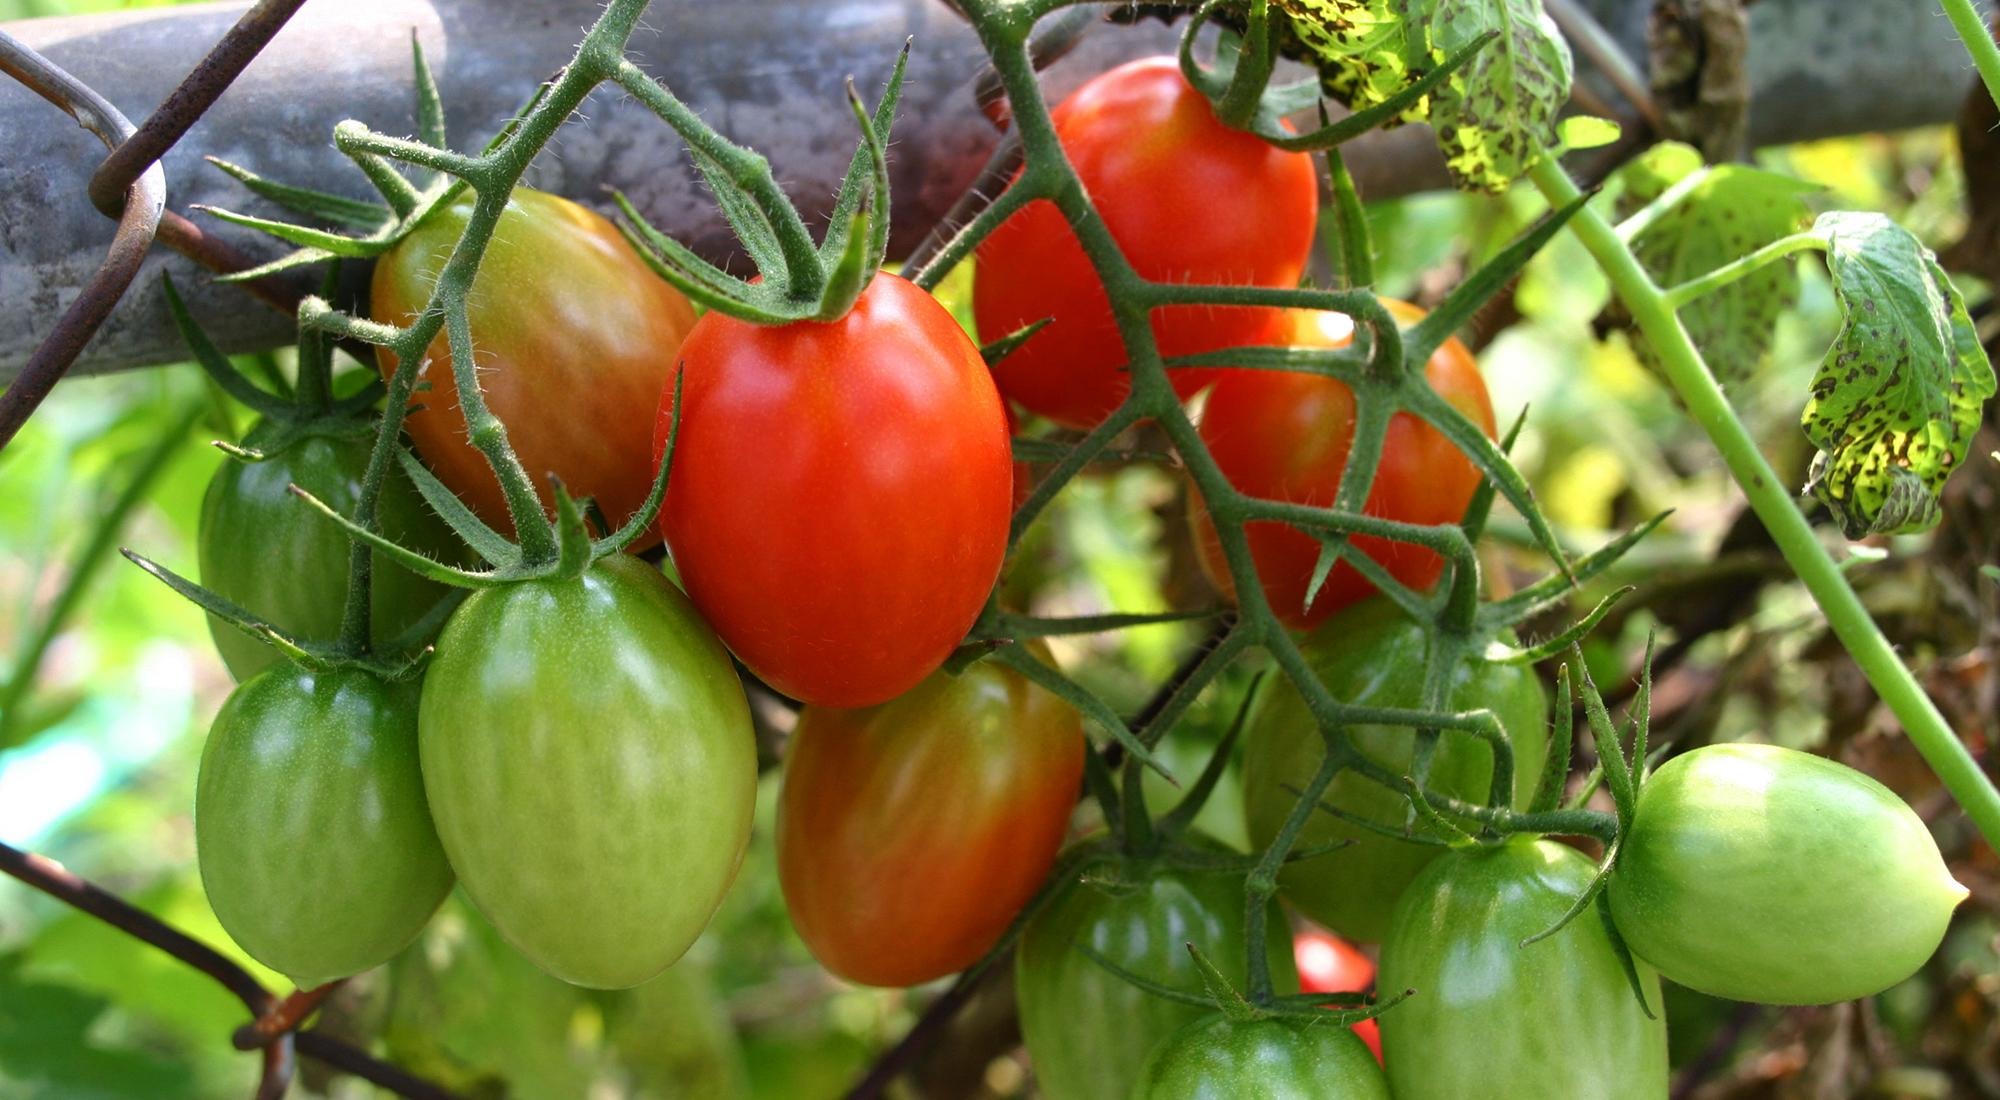stems: (611, 53, 833, 299), (955, 390, 1146, 639), (1238, 490, 1479, 635), (1116, 616, 1250, 853), (445, 299, 562, 561), (1341, 698, 1521, 847), (1238, 755, 1345, 1002), (1345, 746, 1618, 839), (334, 358, 420, 649), (1150, 283, 1410, 378), (332, 119, 492, 217), (292, 284, 408, 412)
tomato: (649, 256, 1014, 706), (417, 543, 760, 993), (970, 51, 1318, 436), (370, 177, 696, 555), (773, 610, 1087, 993), (1242, 597, 1559, 954), (1185, 293, 1496, 625), (1601, 741, 1955, 1002), (194, 661, 455, 992), (1017, 825, 1303, 1100), (1385, 829, 1670, 1100), (198, 402, 464, 681), (1133, 1007, 1391, 1100)
